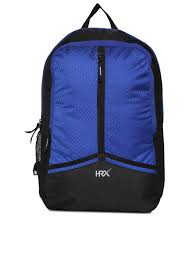backpack: (25, 2, 165, 213)
